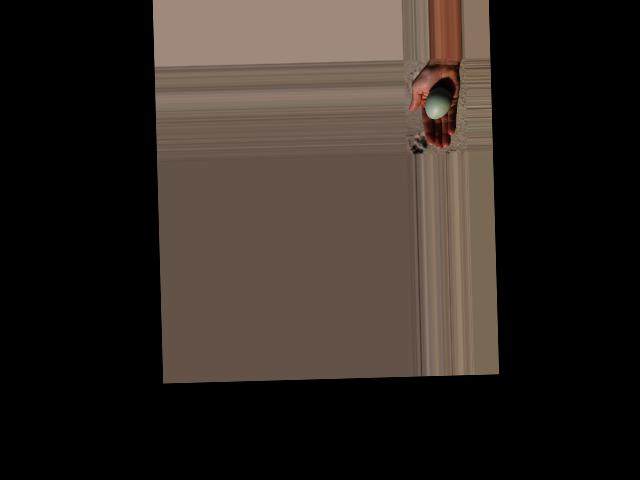egg: (425, 87, 452, 120)
